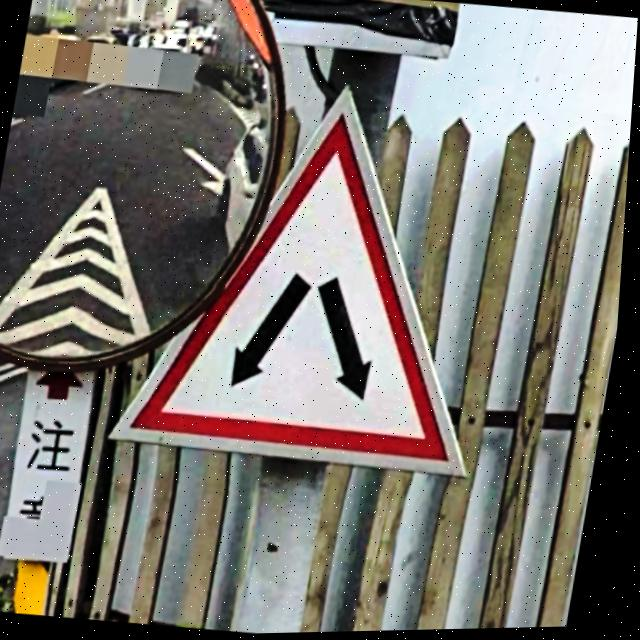diverge: (138, 119, 453, 464)
